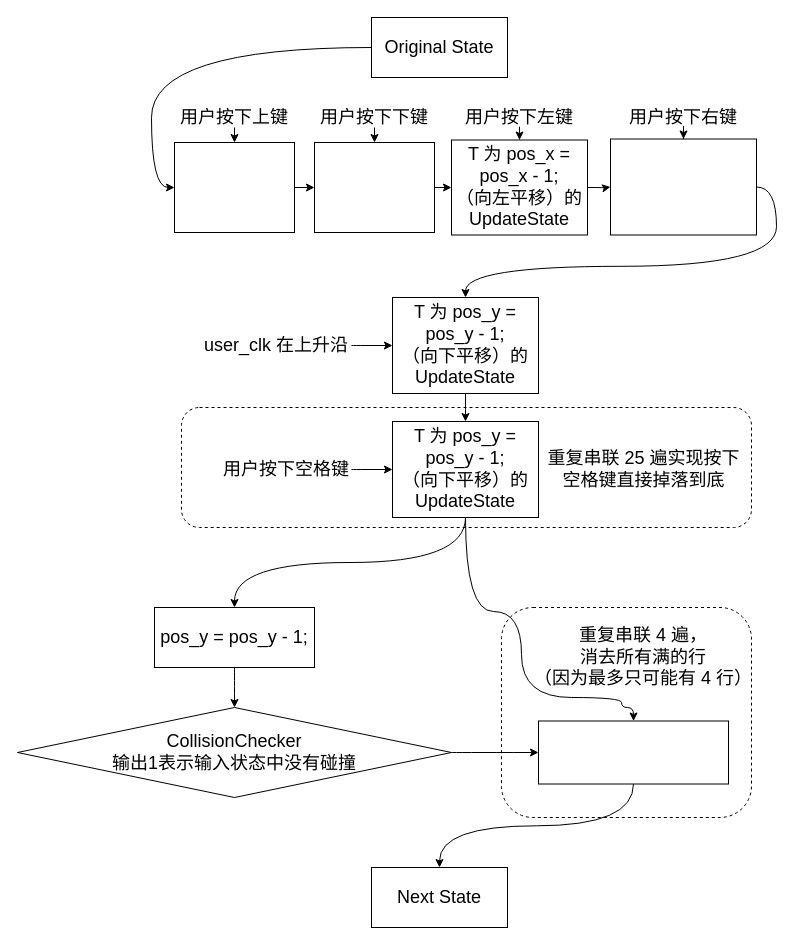
This 794x945 diagram has some shape labels left out. Each missing label, with the box of its shape:
RowEliminator （删除一个填满的行）: (538, 720, 728, 784)
T 为 pos_x = pos_x + 1; （向右平移）的 UpdateState: (610, 138, 756, 235)
T 为 Rotate (逆时针) 的 UpdateState: (314, 142, 434, 232)
T 为 Rotate (顺时针) 的 UpdateState: (174, 142, 294, 232)
